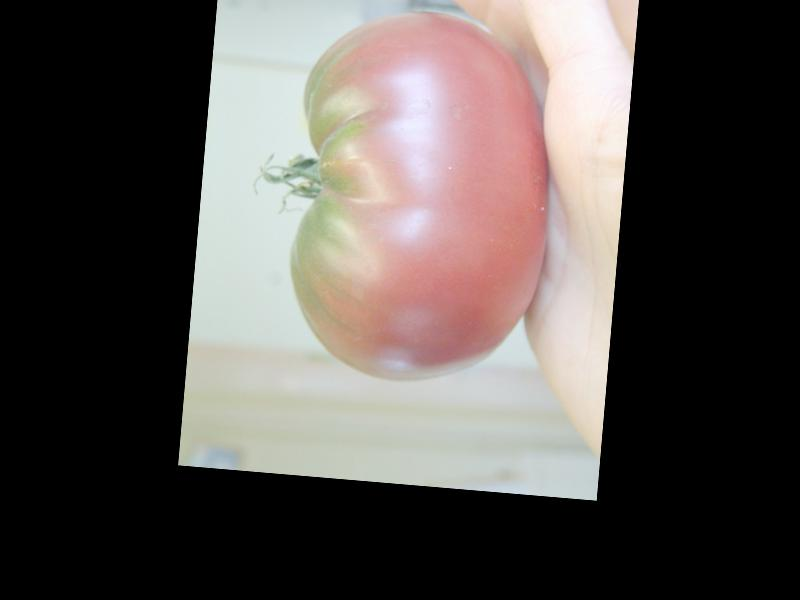Tomato: (279, 2, 564, 392)
